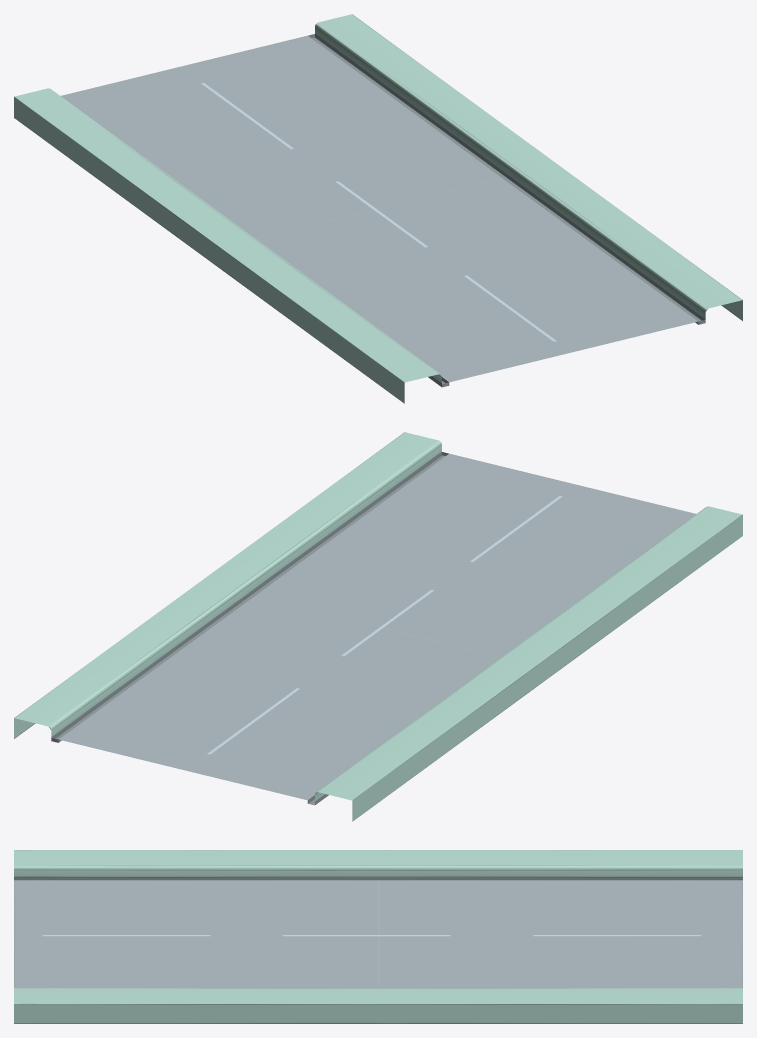
3 views of the same model, one above another, from view 1: azimuth 30°, elevation 25°; view 2: azimuth 150°, elevation 25°; view 3: azimuth 270°, elevation 25° (orthographic). The views are drawn at different scales.
Visible parts, largest first — view 1: pPlane21; view 2: pPlane21; view 3: pPlane21.
Boxes of the visible parts, box(x1,y1,x2,y2) form: pPlane21: box(14, 14, 742, 403); pPlane21: box(14, 432, 742, 821); pPlane21: box(14, 850, 742, 1023).
Size of the model in its own units: 1 by 0.06 by 2.
1 material, 1 textured.
